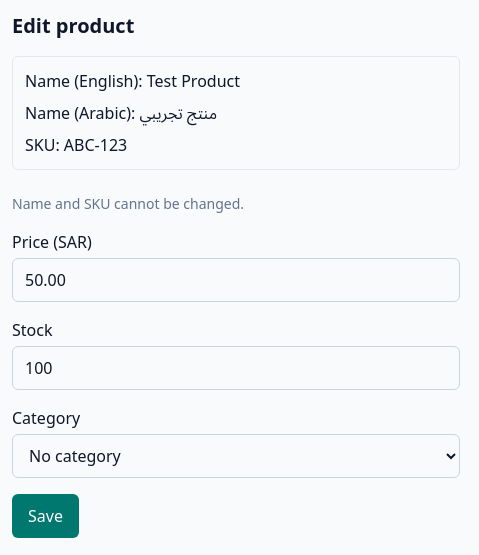
it: ProductEditPage › valid submit sends apiPatch with correct body in English
expect the text "Name and SKU cannot be changed." is shown: met, box left=12, top=194, right=244, bottom=213
Step 1. Replace the text in the field labelled "Price (SAR)" with "55.00" → [236, 280], box left=12, top=258, right=460, bottom=302
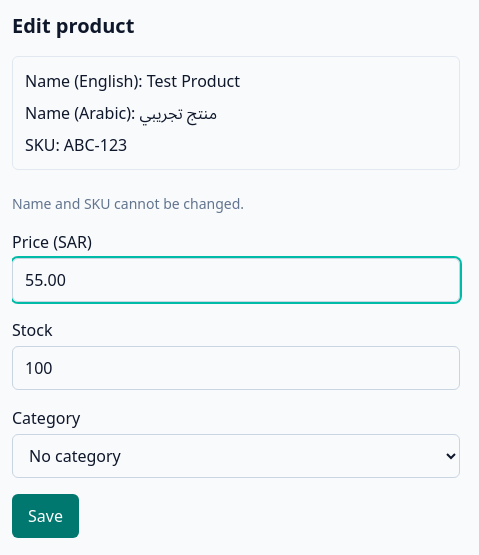
Step 2. Replace the text in the field labelled "Stock" with "200" → [236, 368], box left=12, top=346, right=460, bottom=390
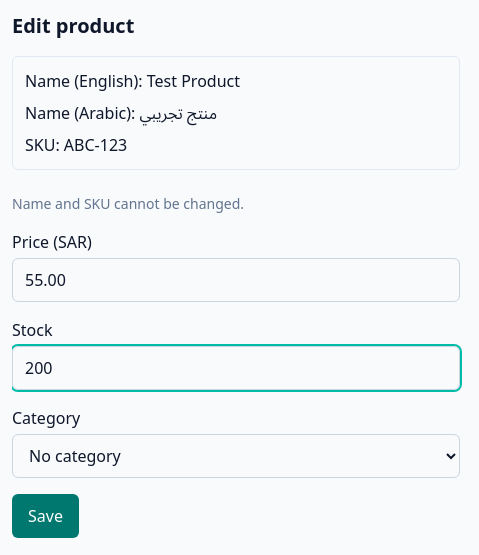
Step 3. Click the button "Save" → [45, 516], box left=12, top=494, right=79, bottom=538
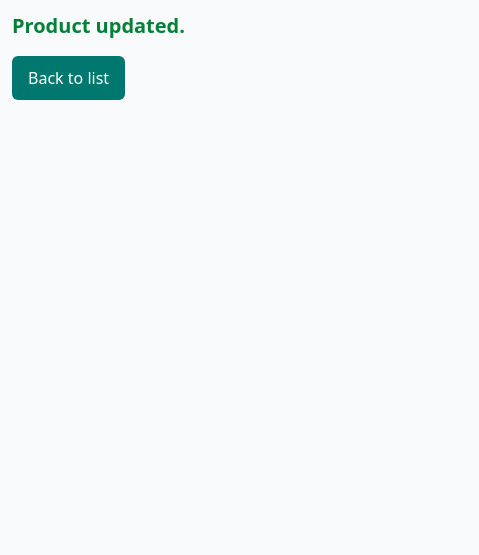
expect the message reads "Product updated.": met, box left=12, top=12, right=185, bottom=39
expect the button "Back to list" is shown: met, box left=12, top=56, right=125, bottom=100
